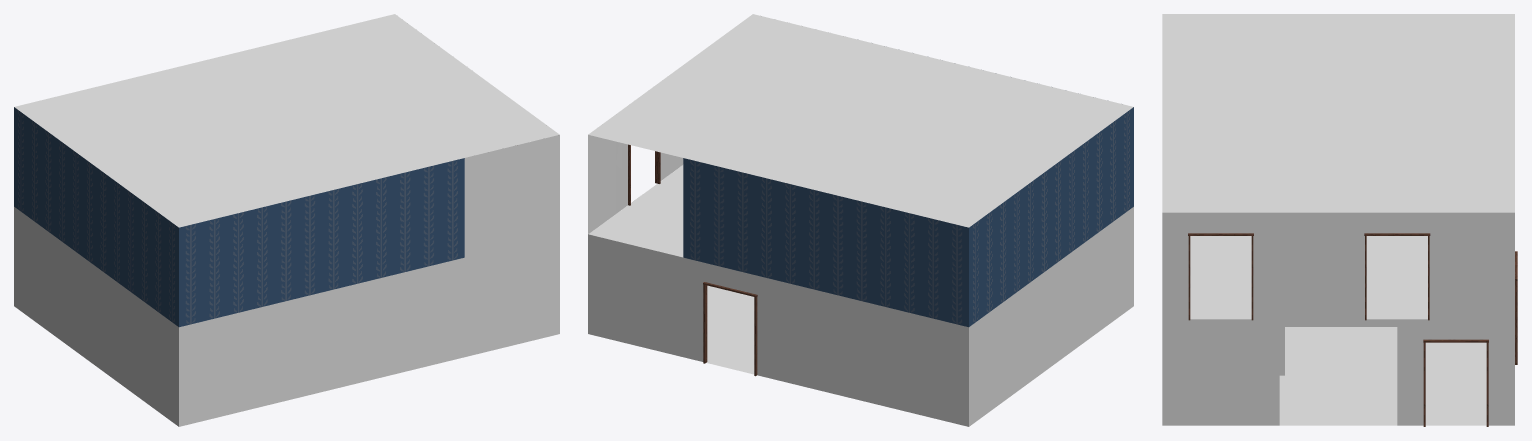
Rendered from 3x4room_livingroom.fbx.
The picture shows the model from 3 angles, left to right: view 1: azimuth 30°, elevation 25°; view 2: azimuth 150°, elevation 25°; view 3: azimuth 270°, elevation 25°; orthographic projection. The views are drawn at different scales.
Parts seen in each view (by area): view 1: 3x4 Tall Room "Living Room"; view 2: 3x4 Tall Room "Living Room"; view 3: 3x4 Tall Room "Living Room".
Part boxes in pixels (x1,y1,x2,y2): 3x4 Tall Room "Living Room": (14, 14, 559, 426); 3x4 Tall Room "Living Room": (588, 14, 1133, 426); 3x4 Tall Room "Living Room": (1162, 14, 1517, 426).
Size of the model in its own units: 1258 by 625 by 945.
8 materials, 4 textured.
